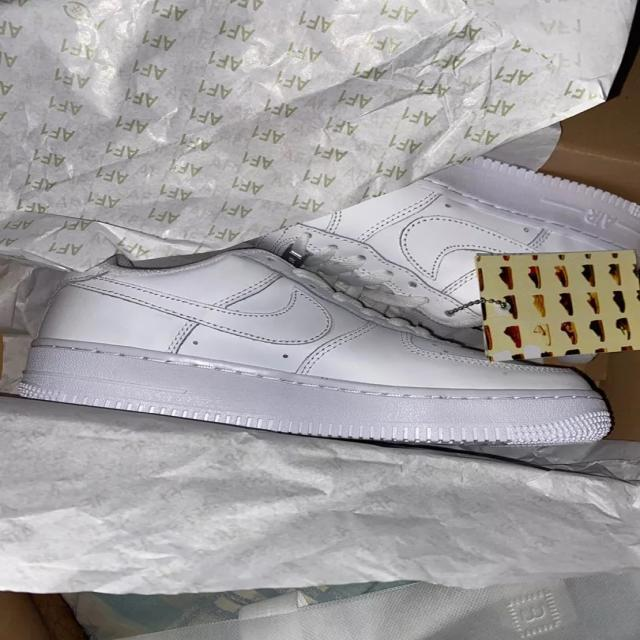nike fake air force: (15, 240, 612, 450)
